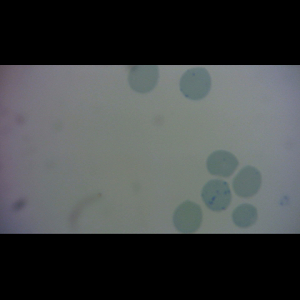aggregate reticulocyte: (200, 178, 233, 213)
erythrocyte: (172, 200, 203, 234), (126, 65, 161, 94), (230, 202, 260, 229)
punctate reticulocyte: (178, 66, 213, 101), (232, 165, 263, 198), (205, 149, 241, 177)
